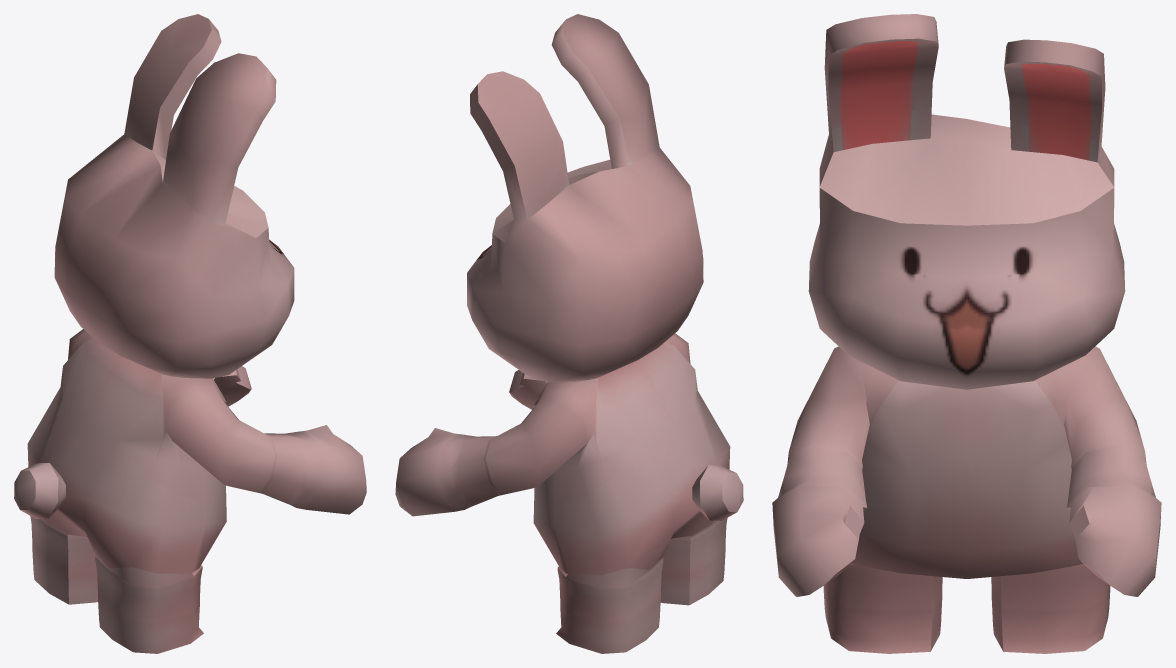
3 views of the same model, side by side, from view 1: azimuth 30°, elevation 25°; view 2: azimuth 150°, elevation 25°; view 3: azimuth 270°, elevation 25° (orthographic). The views are drawn at different scales.
Visible parts, largest first — view 1: Rb_S4; view 2: Rb_S4; view 3: Rb_S4.
Part boxes in pixels (x1,y1,x2,y2): Rb_S4: (14,14,366,653); Rb_S4: (395,14,743,653); Rb_S4: (772,14,1161,653).
Bounding box in the file's own units: 4.42 × 8 × 4.16.
